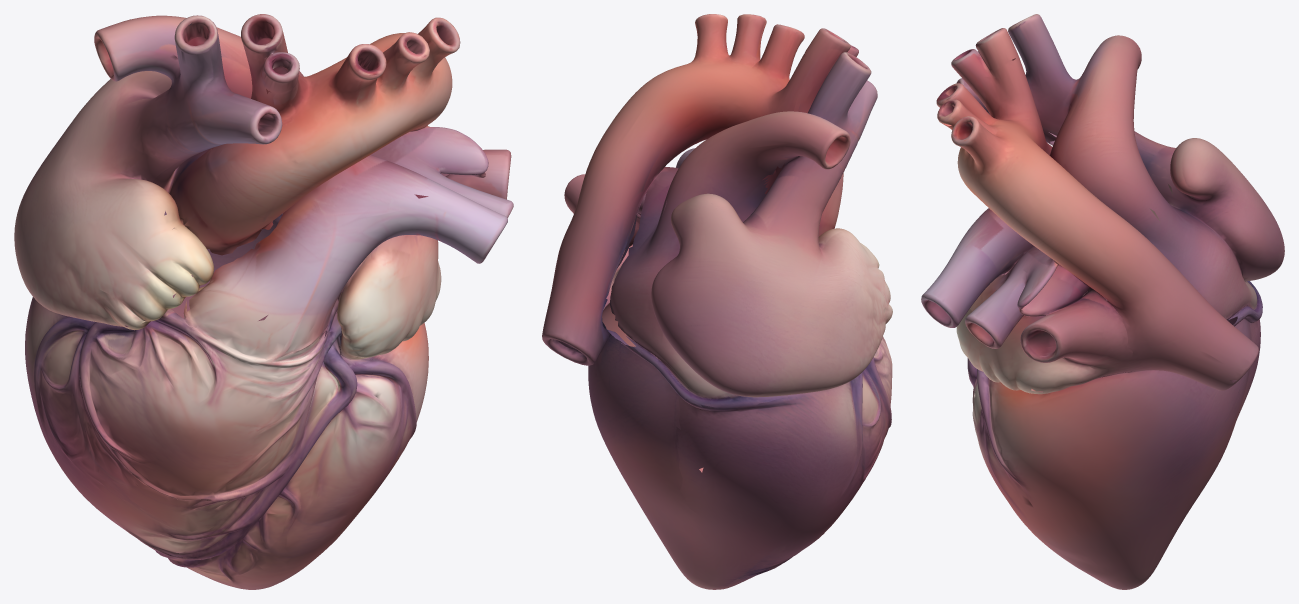
The model's file is organ-heart-interactive-lod.glb.
The picture shows the model from 3 angles, left to right: view 1: azimuth 30°, elevation 25°; view 2: azimuth 150°, elevation 25°; view 3: azimuth 270°, elevation 25°; orthographic projection. The views are drawn at different scales.
Parts seen in each view (by area): view 1: node_0.005, node_0.001, node_0.004, node_0.003, node_0; view 2: node_0.001, node_0.003, node_0.005, node_0, node_0.004; view 3: node_0, node_0.003, node_0.001, node_0.004, node_0.005.
Boxes of the visible parts, left/top/right/bottom form: node_0.005: left=25, top=297, right=357, bottom=565; node_0.001: left=14, top=15, right=303, bottom=330; node_0.004: left=184, top=126, right=513, bottom=362; node_0.003: left=169, top=14, right=460, bottom=255; node_0: left=164, top=211, right=428, bottom=589; node_0.001: left=609, top=52, right=892, bottom=408; node_0.003: left=542, top=14, right=858, bottom=365; node_0.005: left=668, top=336, right=892, bottom=574; node_0: left=588, top=302, right=777, bottom=589; node_0.004: left=564, top=148, right=694, bottom=306; node_0: left=972, top=314, right=1257, bottom=589; node_0.003: left=936, top=28, right=1258, bottom=390; node_0.001: left=956, top=14, right=1284, bottom=320; node_0.004: left=921, top=208, right=1151, bottom=394; node_0.005: left=967, top=271, right=1262, bottom=418.
Size of the model in its own units: 0.7448 by 1.09 by 0.6763.
1 material, 1 textured.
